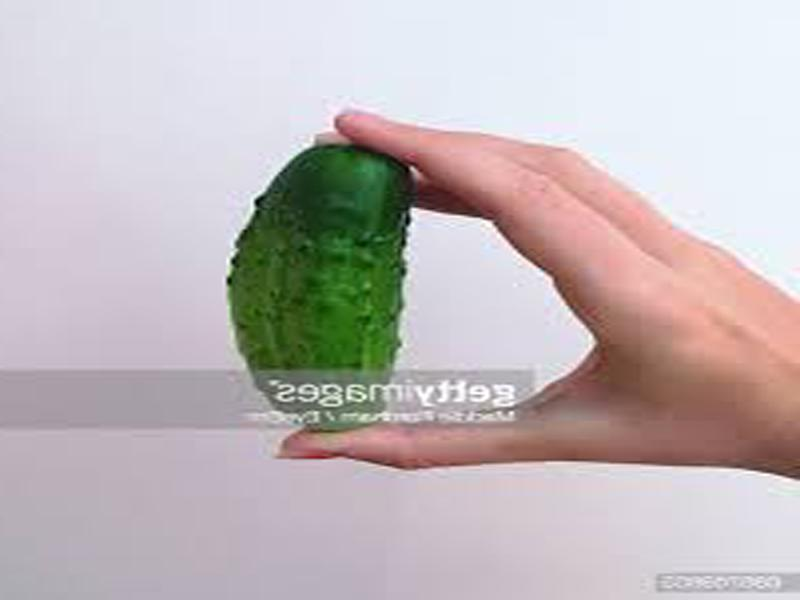Cucumber: (226, 143, 409, 433)
